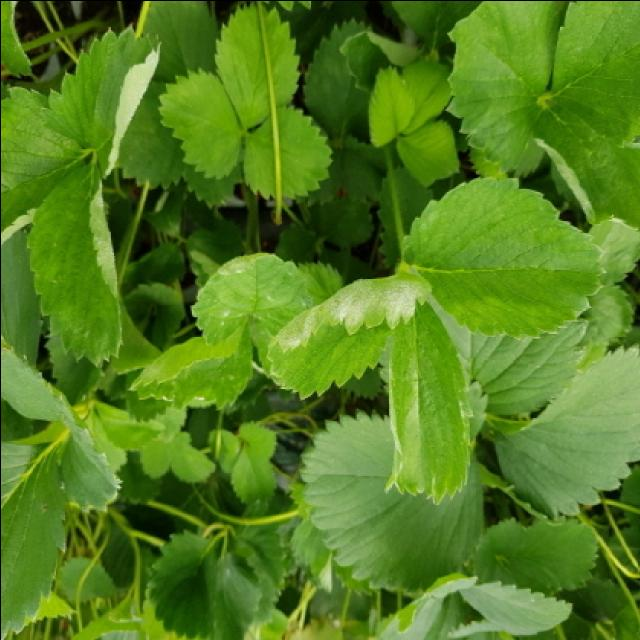Powdery Mildew Leaf: (264, 270, 430, 398), (382, 299, 476, 505), (189, 250, 308, 349), (127, 331, 250, 409)
